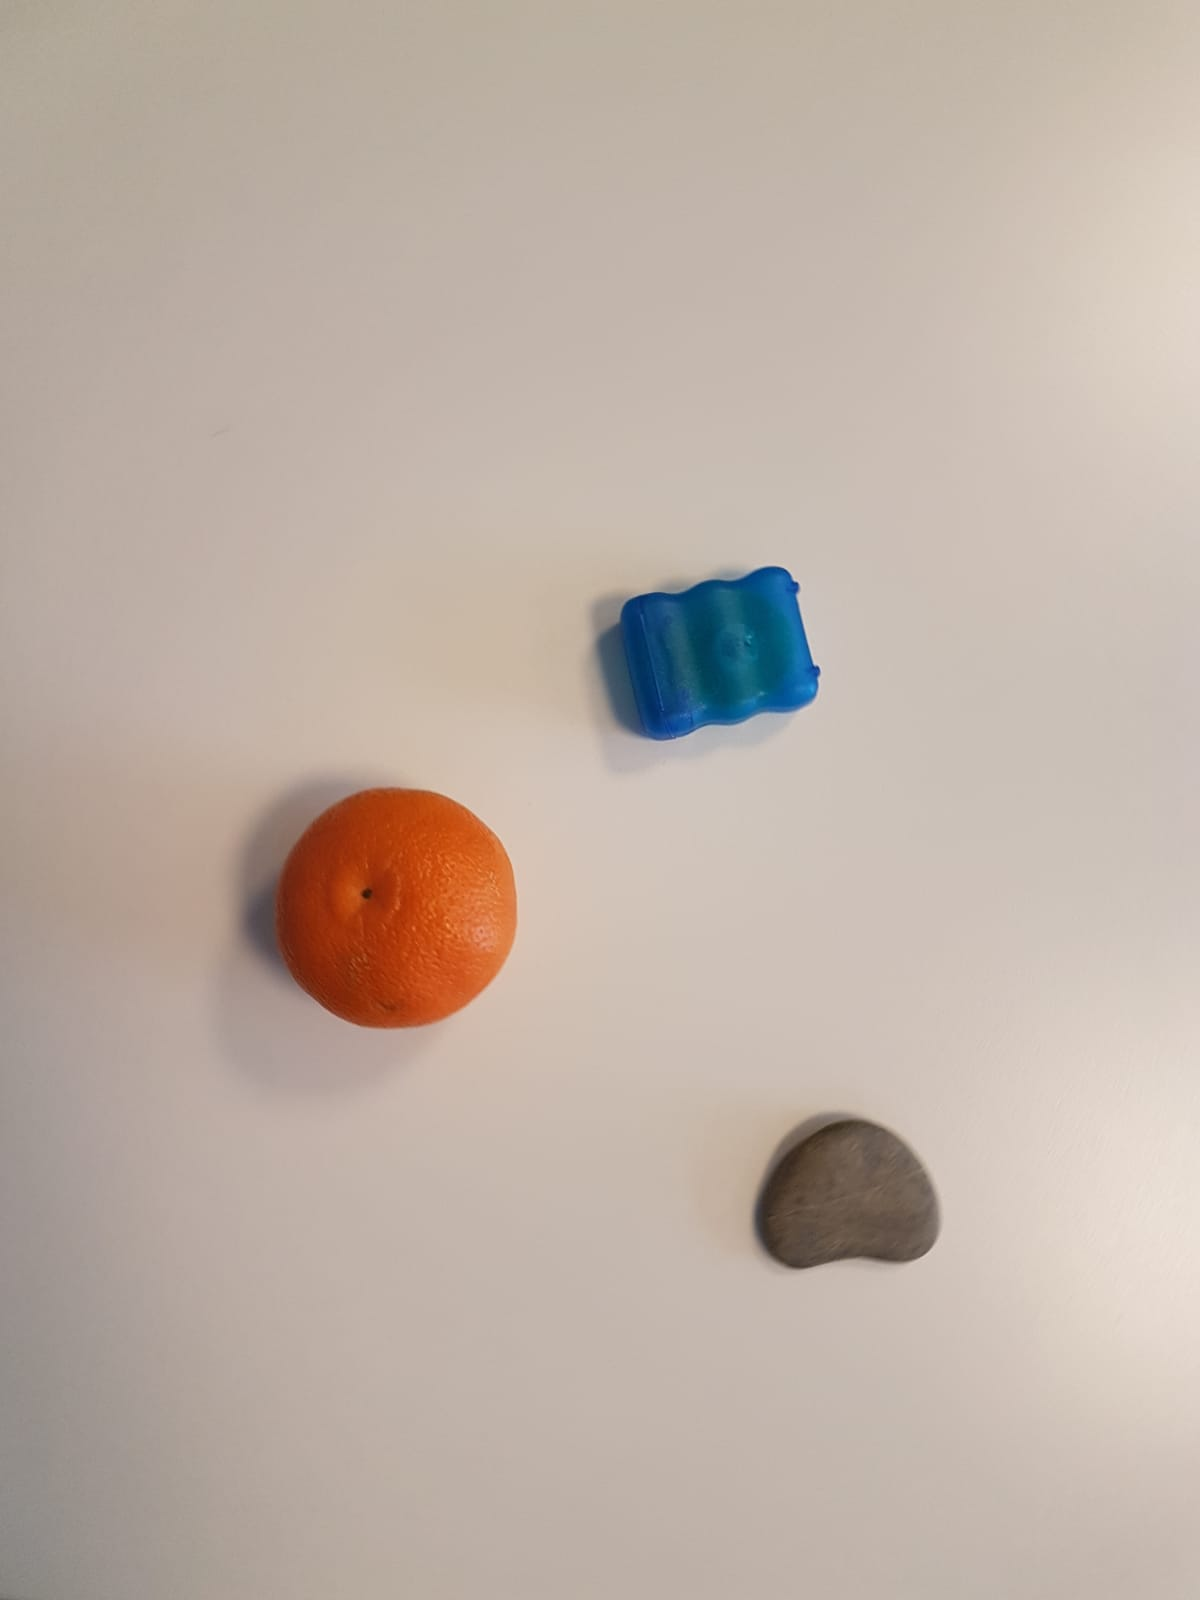Box: (609, 566, 826, 745)
Orange: (274, 787, 519, 1031)
Stone: (760, 1120, 943, 1269)
